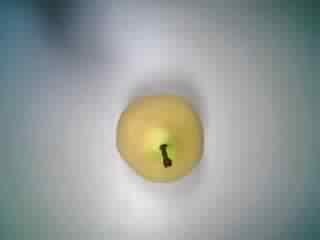pear: (99, 86, 214, 186)
